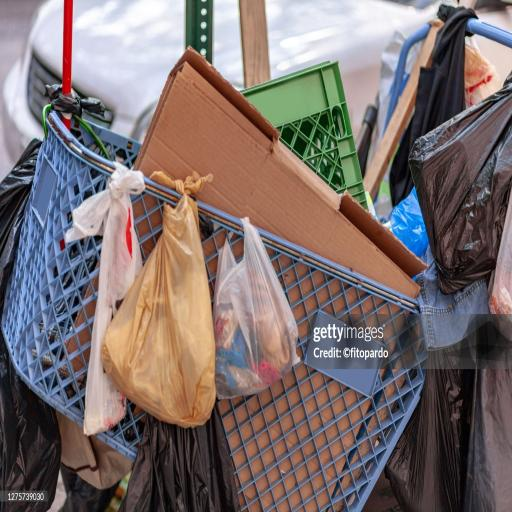shopping_cart: (1, 100, 430, 512)
